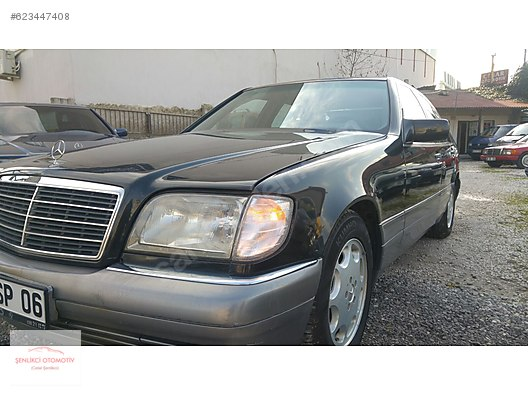mercedes: (1, 64, 472, 348)
